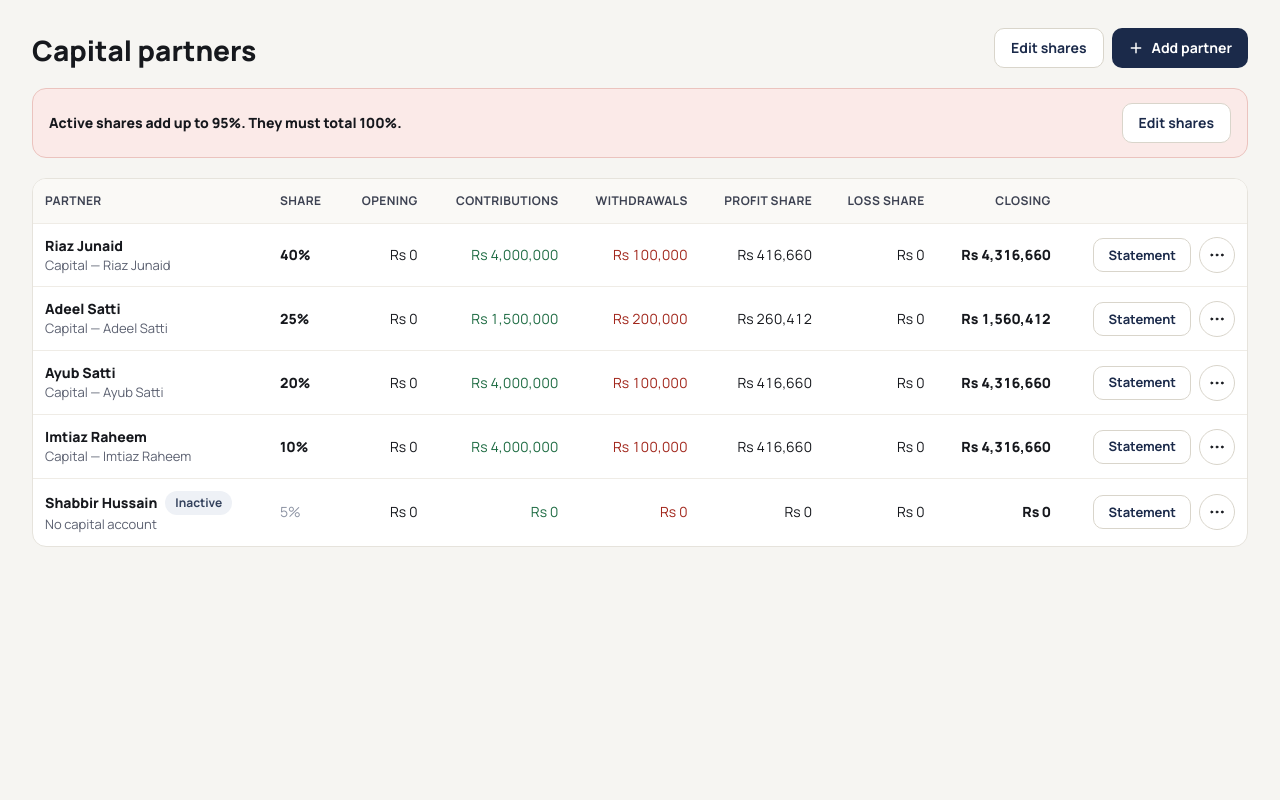
Test: Capital partners: the shares notice › shows when the saved shares of the active partners do not add up to 100%, and opens Edit shares
Click the 2nd button "Edit shares" at (1176, 123), box [1122,103,1231,143]
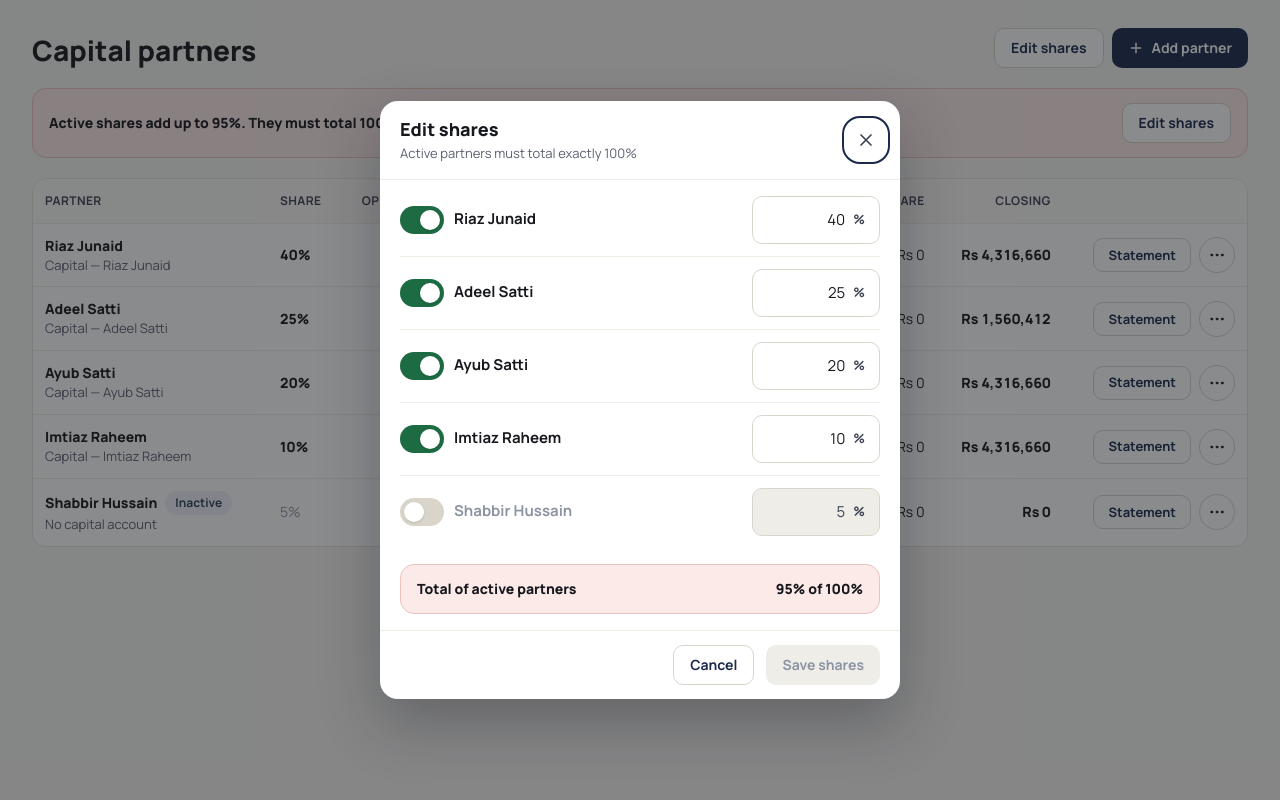
expect the text "Active partners must total exactly 100%" is shown: met, box [400,144,637,162]
